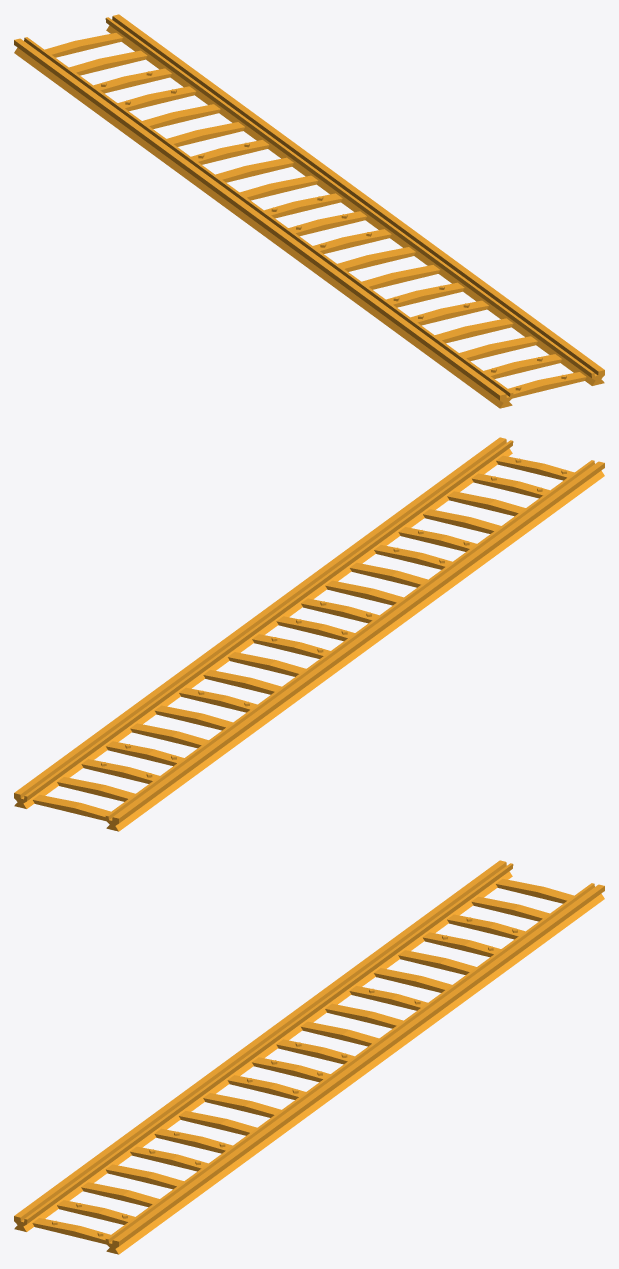
File: SM_Rail_Tram_10m.fbx
3 views of the same model, one above another, from view 1: azimuth 30°, elevation 25°; view 2: azimuth 150°, elevation 25°; view 3: azimuth 330°, elevation 25° (orthographic).
Parts seen in each view (by area): view 1: rail-tram-10m; view 2: rail-tram-10m; view 3: rail-tram-10m.
Part boxes in pixels (x1,y1,x2,y2): rail-tram-10m: (14,14,604,408); rail-tram-10m: (14,437,604,831); rail-tram-10m: (14,860,604,1254).
Bounding box in the file's own units: 1.25 × 0.1529 × 10.
